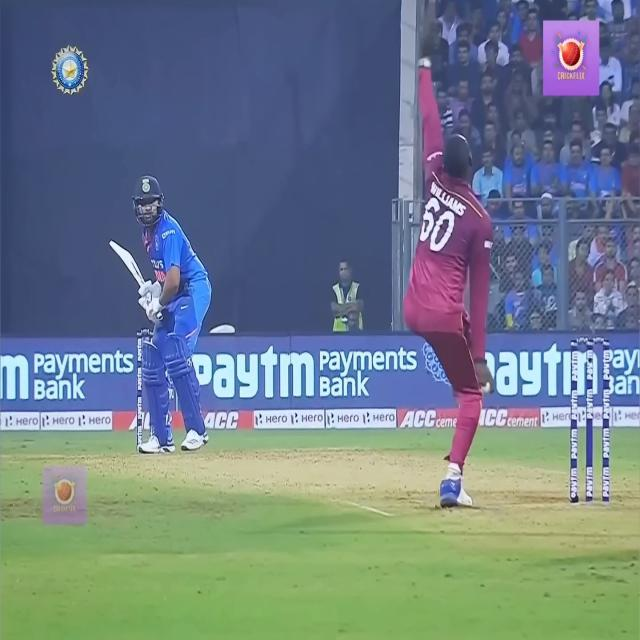partially_visible: (188, 348, 318, 414), (476, 351, 600, 395)
